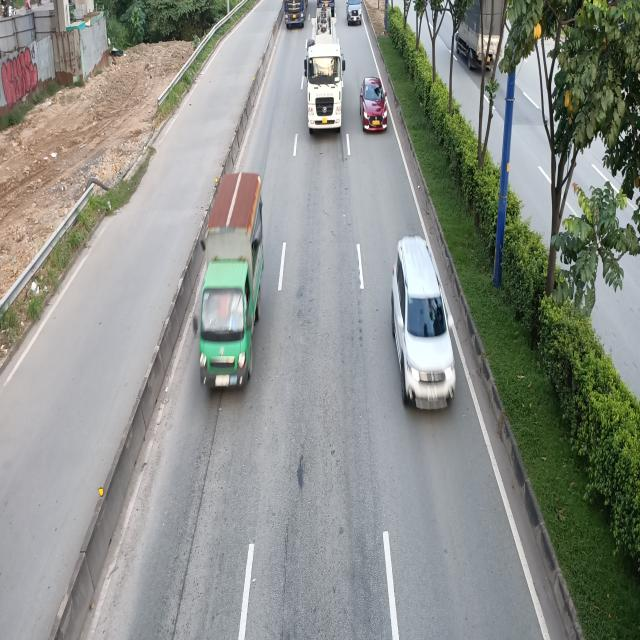car: (391, 238, 455, 412), (360, 76, 388, 133), (347, 0, 363, 24)
container: (304, 6, 345, 132)
truck: (190, 172, 264, 392)
